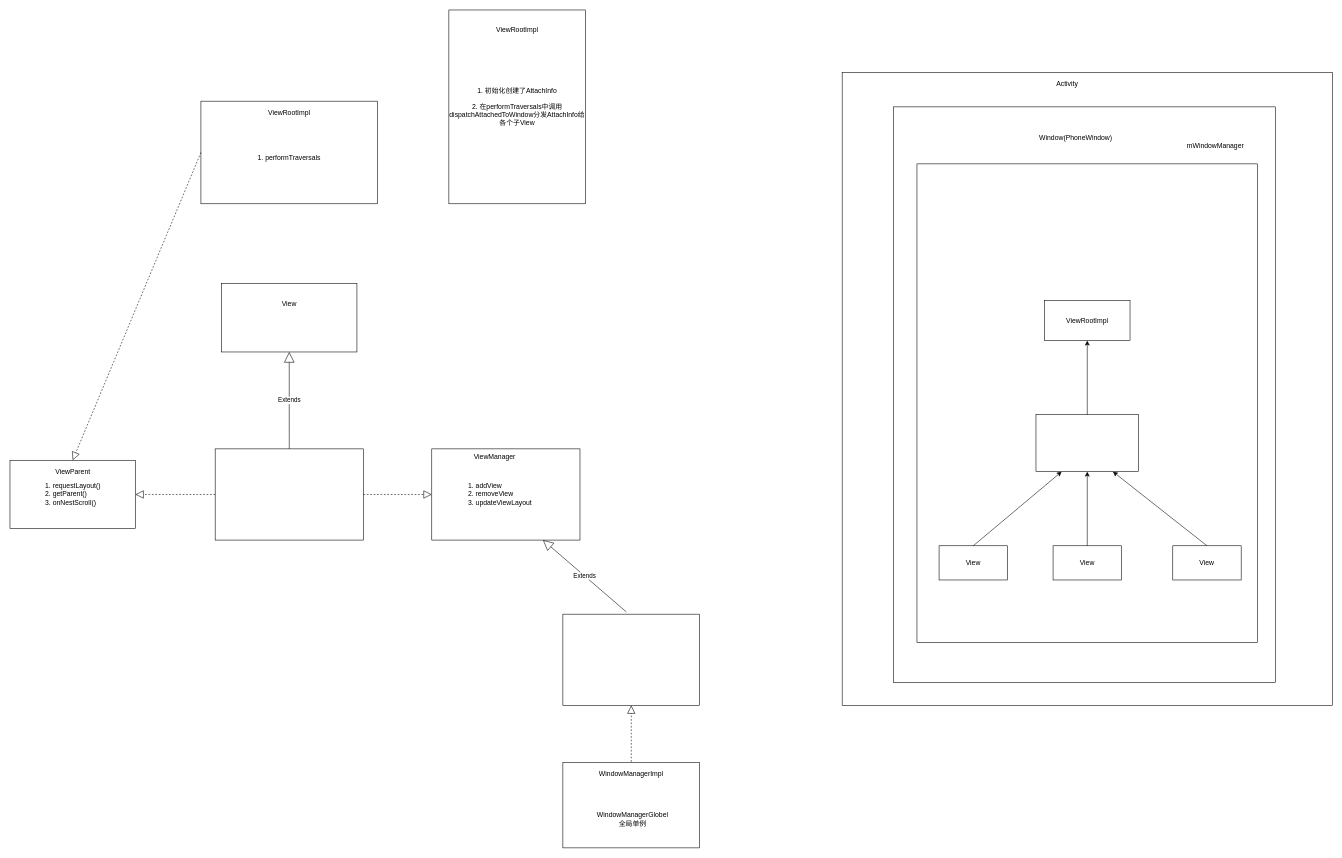
This 1342x858 diagram has some shape labels left out. Here are the shapes that lost their labels. From the top down, the centre of each, then its label:
At point 1087,443: "DecorView".
At point 289,494: "ViewGroup".
At point 631,659: "WindowManager".
